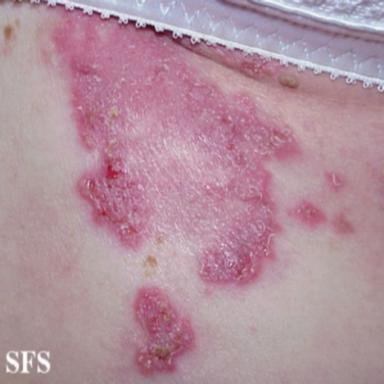Hailey-Hailey-Disease: (41, 10, 299, 285), (133, 286, 194, 374), (289, 200, 325, 225), (325, 171, 343, 191)
